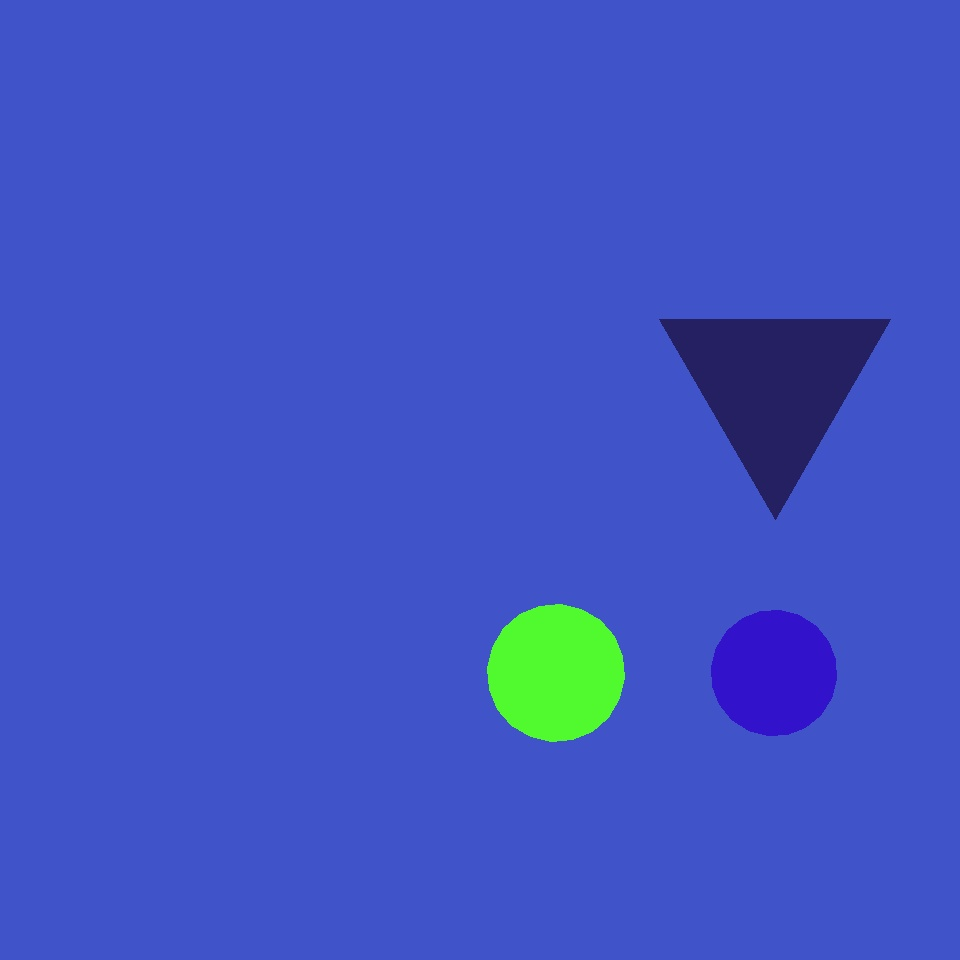circle: (659, 286, 890, 486)
triangle: (488, 604, 625, 742), (712, 610, 836, 736)
